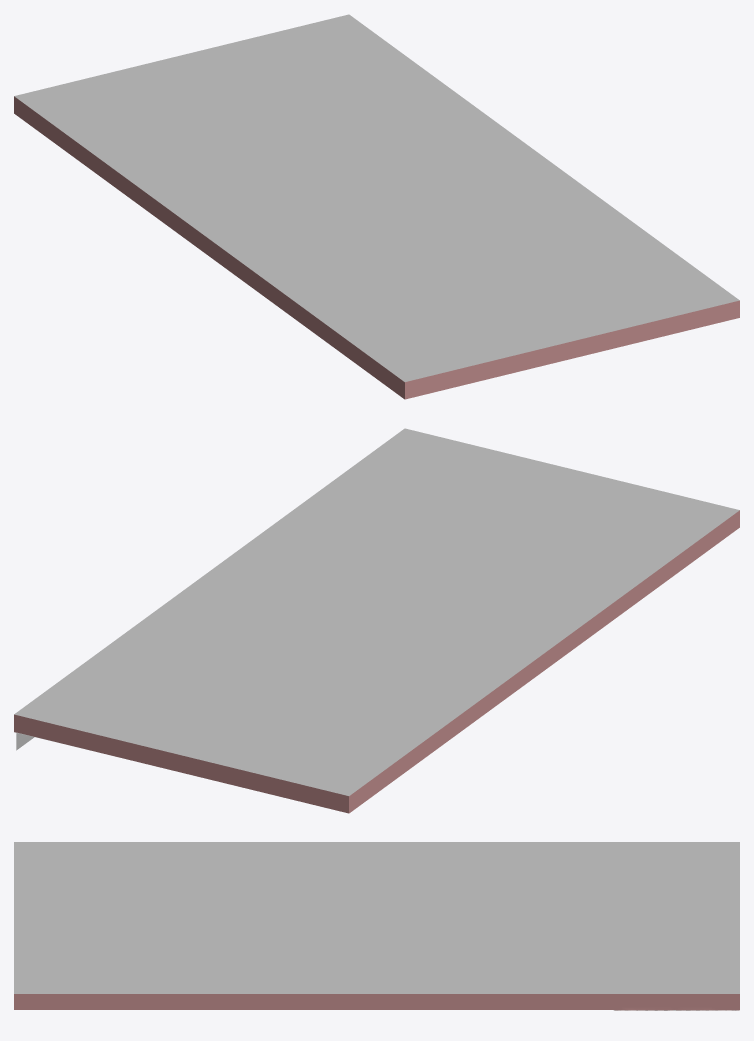
Rendered from 21a96bfe-1d2f-4913-a727-8c72a07cf272-003cfc69.glb.
The picture shows the model from 3 angles, top to bottom: view 1: azimuth 30°, elevation 25°; view 2: azimuth 150°, elevation 25°; view 3: azimuth 270°, elevation 25°; orthographic projection. The views are drawn at different scales.
Visible parts, largest first — view 1: sopnet4; view 2: sopnet4; view 3: sopnet4.
Part boxes in pixels (bbox=[...]): sopnet4: bbox=[14, 14, 739, 399]; sopnet4: bbox=[14, 428, 739, 813]; sopnet4: bbox=[14, 842, 739, 1010].
Bounding box in the file's own units: 3.66 × 0.37 × 7.39.
